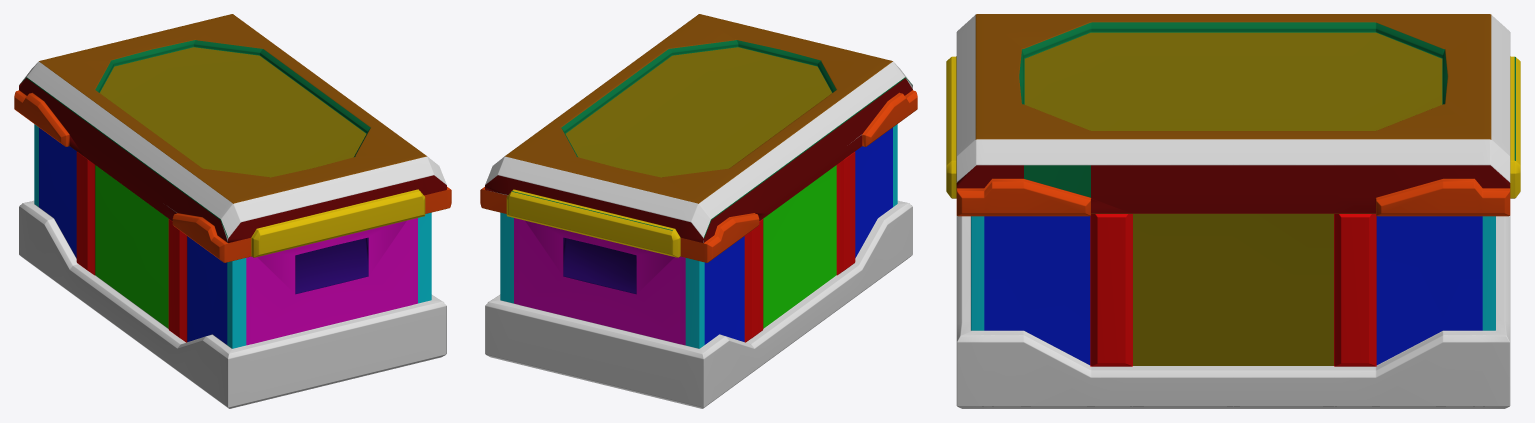
Rendered from crate_lp.FBX.
3 renders of one model, left to right at view 1: azimuth 30°, elevation 25°; view 2: azimuth 150°, elevation 25°; view 3: azimuth 270°, elevation 25°, orthographic. The views are drawn at different scales.
Parts seen in each view (by area): view 1: crate001; view 2: crate001; view 3: crate001.
Boxes of the visible parts, x1,y1,x2,y2 form: crate001: (14, 14, 451, 408); crate001: (480, 14, 917, 408); crate001: (946, 14, 1520, 408).
Bounding box in the file's own units: 54.7 × 44.88 × 88.36.
